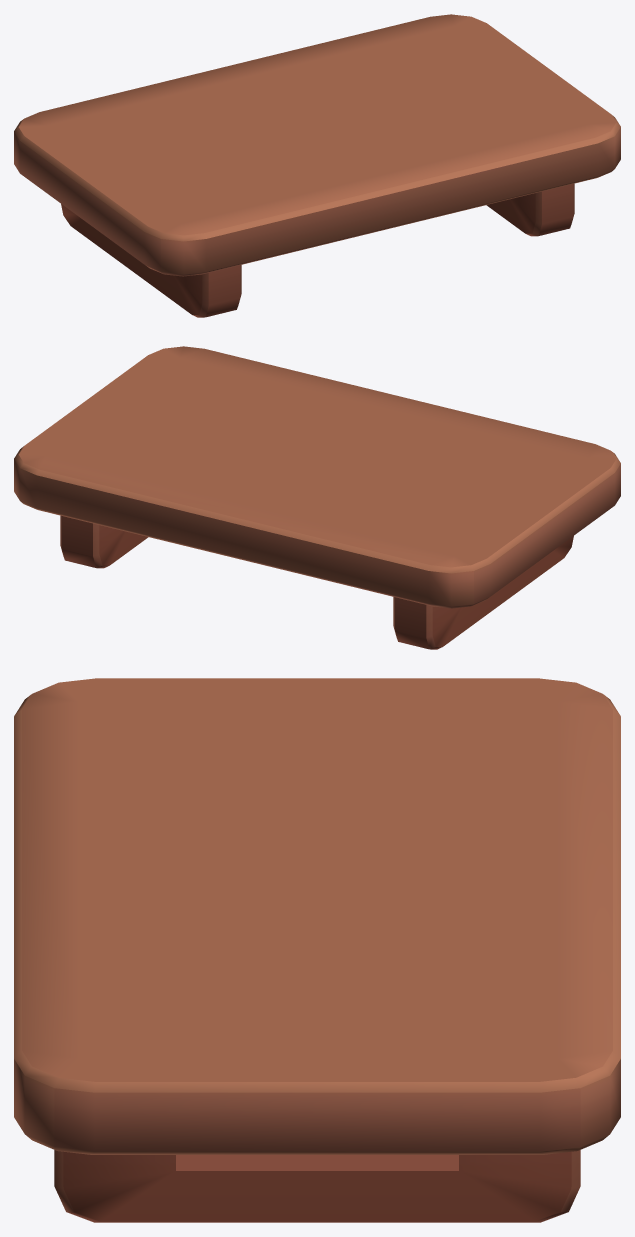
Rendered from coffee-table.glb.
The picture shows the model from 3 angles, top to bottom: view 1: azimuth 30°, elevation 25°; view 2: azimuth 150°, elevation 25°; view 3: azimuth 270°, elevation 25°; orthographic projection. The views are drawn at different scales.
Parts seen in each view (by area): view 1: table_low; view 2: table_low; view 3: table_low.
Part boxes in pixels (x1,y1,x2,y2): table_low: (14,14,620,317); table_low: (14,346,620,649); table_low: (14,678,620,1222).
Size of the model in its own units: 1.1 by 0.2291 by 0.6875.
Materials: 1 (1 with a texture image).
